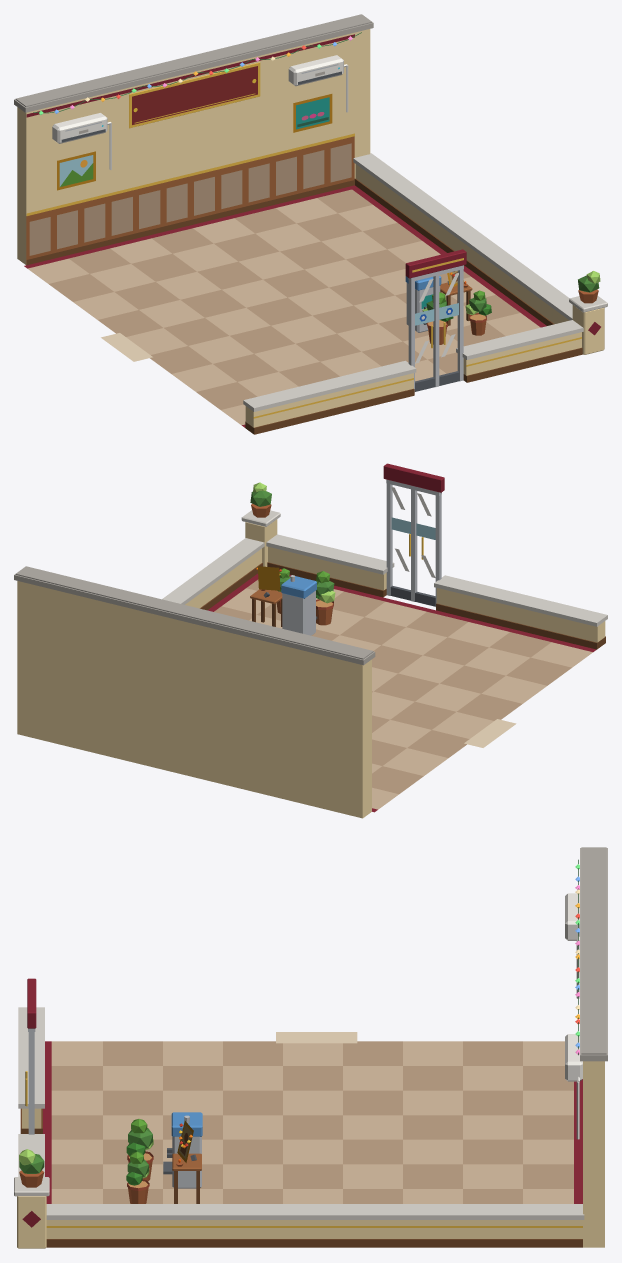
File: family_hall.glb
The picture shows the model from 3 angles, top to bottom: view 1: azimuth 30°, elevation 25°; view 2: azimuth 150°, elevation 25°; view 3: azimuth 270°, elevation 25°; orthographic projection. The views are drawn at different scales.
Visible parts, largest first — view 1: family_hall; view 2: family_hall; view 3: family_hall.
Boxes of the visible parts, x1,y1,x2,y2 form: family_hall: (14,14,607,434); family_hall: (14,463,607,818); family_hall: (14,847,607,1248).
Bounding box in the file's own units: 6.99 × 2.91 × 8.03.
Materials: 2 (1 with a texture image).
